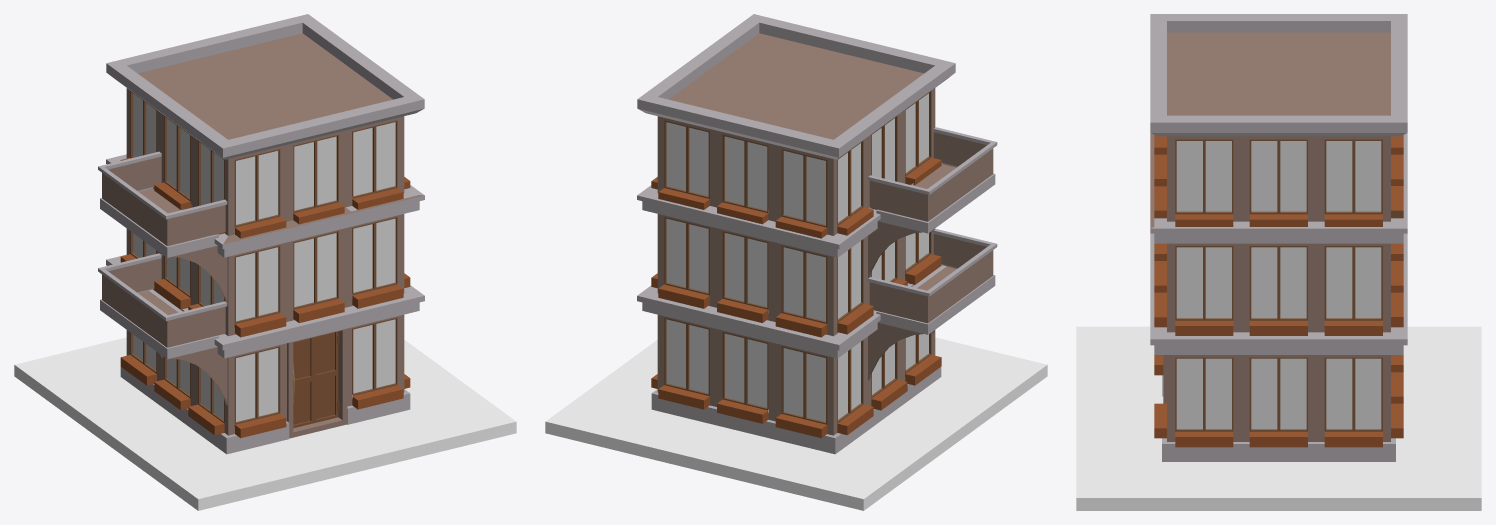
Rendered from apartment.fbx.
3 views of the same model, side by side, from view 1: azimuth 30°, elevation 25°; view 2: azimuth 150°, elevation 25°; view 3: azimuth 270°, elevation 25° (orthographic). The views are drawn at different scales.
Parts seen in each view (by area): view 1: 立方体, wall, window_glasses, wall_frame, beranda_red, window, window_frame, beranda_white, 立方体.002; view 2: window_glasses, 立方体, wall, wall_frame, beranda_red, window, window_frame, beranda_white; view 3: 立方体, window_glasses, wall, wall_frame, window_frame, window.
Boxes of the visible parts, left/top/right/bottom form: 立方体: left=14, top=337, right=516, bottom=510; wall: left=126, top=33, right=424, bottom=438; window_glasses: left=133, top=93, right=395, bottom=421; wall_frame: left=106, top=14, right=424, bottom=454; beranda_red: left=102, top=156, right=227, bottom=405; window: left=130, top=91, right=397, bottom=424; window_frame: left=120, top=157, right=410, bottom=438; beranda_white: left=98, top=151, right=227, bottom=359; 立方体.002: left=293, top=331, right=339, bottom=428; window_glasses: left=666, top=93, right=928, bottom=421; 立方体: left=545, top=337, right=1047, bottom=510; wall: left=657, top=33, right=935, bottom=435; wall_frame: left=637, top=14, right=955, bottom=454; beranda_red: left=868, top=132, right=993, bottom=380; window: left=664, top=91, right=931, bottom=424; window_frame: left=651, top=157, right=941, bottom=438; beranda_white: left=868, top=127, right=997, bottom=334; 立方体: left=1076, top=326, right=1481, bottom=510; window_glasses: left=1176, top=141, right=1381, bottom=429; wall: left=1150, top=32, right=1390, bottom=441; wall_frame: left=1150, top=14, right=1407, bottom=461; window_frame: left=1154, top=135, right=1403, bottom=447; window: left=1175, top=139, right=1403, bottom=431.
Size of the model in its own units: 362 by 352 by 362.
